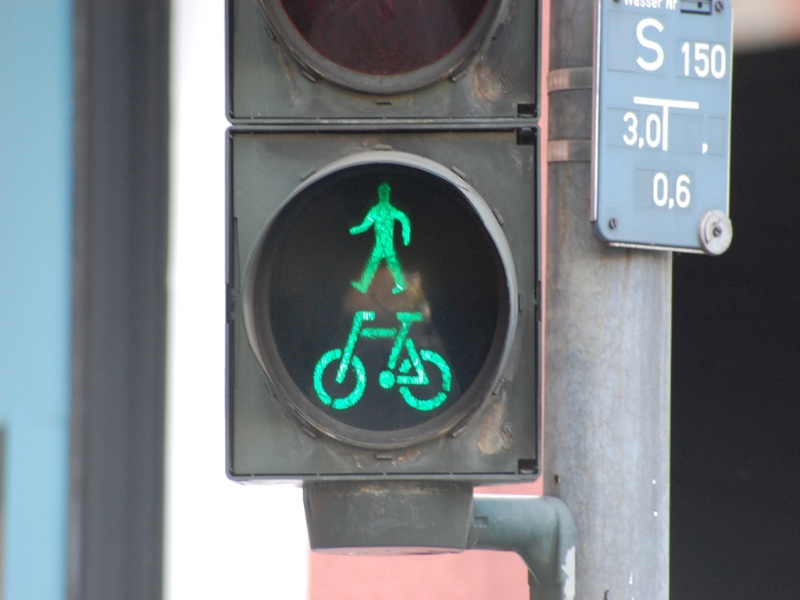cycle_route_ahead: (301, 306, 474, 422)
pedestrian_crossing_green: (343, 179, 423, 301)
